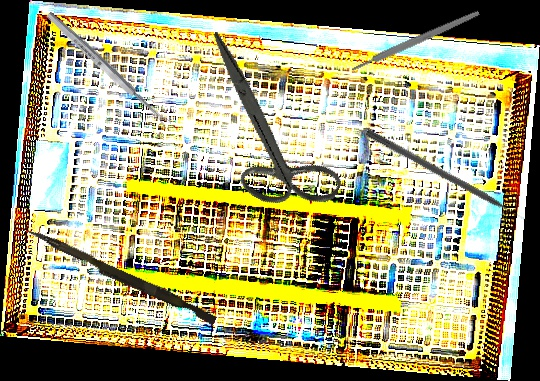Iris Scissors: (154, 31, 378, 231)
Pusher: (23, 227, 220, 326), (364, 128, 529, 226)
Scalpel Handle: (350, 9, 481, 73)
Surgical Spoon: (44, 10, 173, 130)
